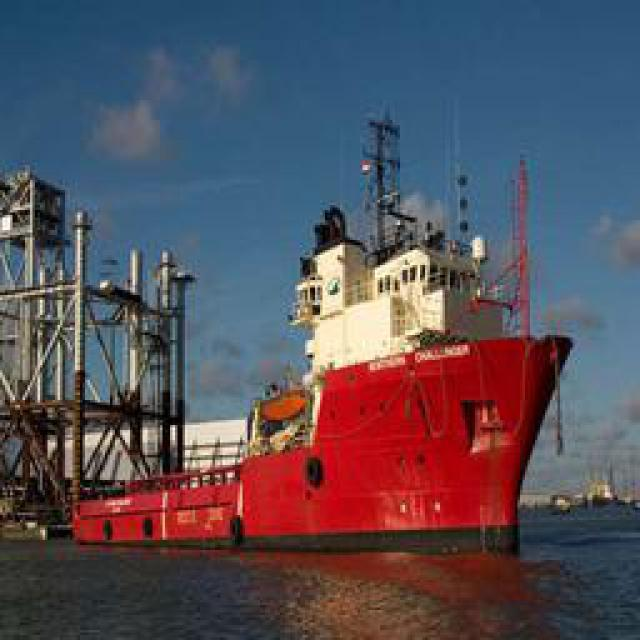Ship: (148, 72, 563, 550)
